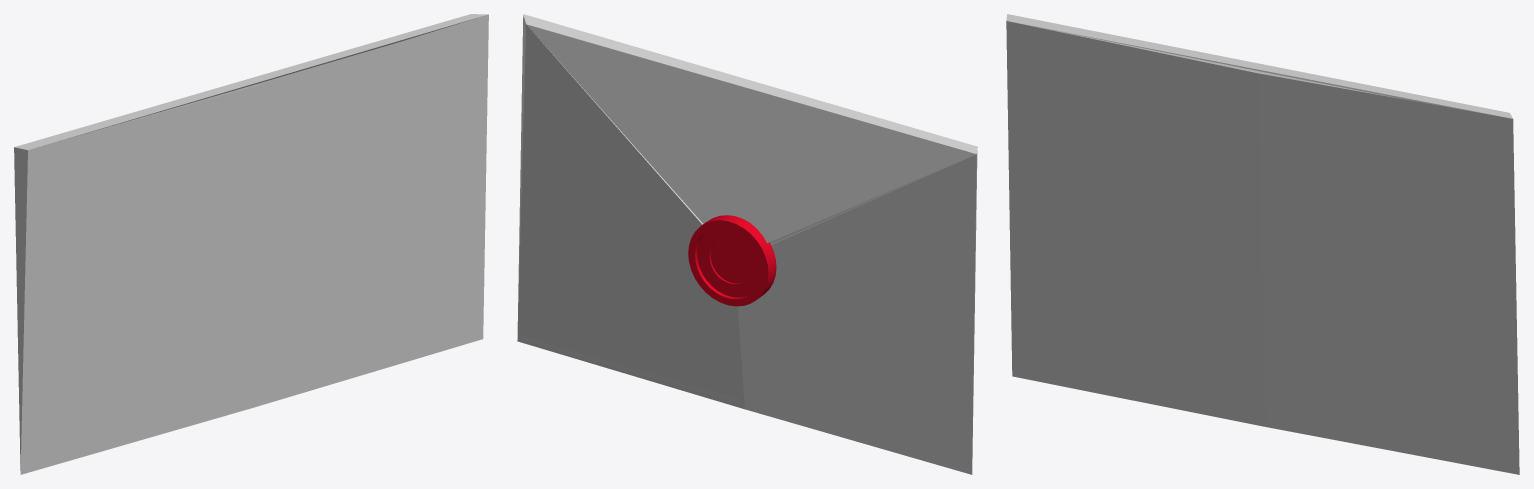
File: Plic.fbx
3 views of the same model, side by side, from view 1: azimuth 30°, elevation 25°; view 2: azimuth 150°, elevation 25°; view 3: azimuth 330°, elevation 25° (orthographic). The views are drawn at different scales.
Visible parts, largest first — view 1: Cylinder.007; view 2: Cylinder.007; view 3: Cylinder.007.
Boxes of the visible parts, box(x1,y1,x2,y2) form: Cylinder.007: box(14, 14, 488, 474); Cylinder.007: box(517, 14, 977, 474); Cylinder.007: box(1006, 14, 1519, 474).
Bounding box in the file's own units: 24.98 × 17.94 × 2.39.
